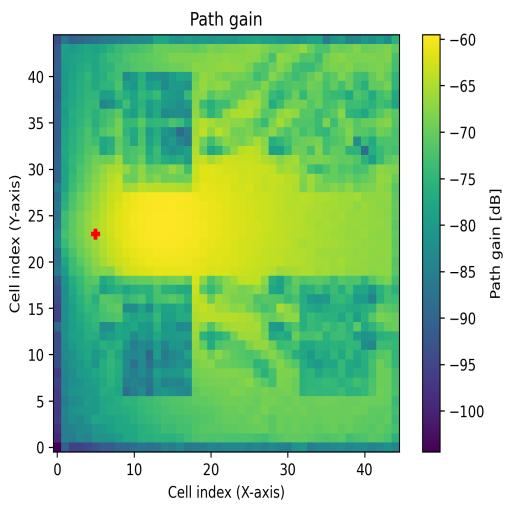Concrete: (300, 70, 377, 190)
Glass: (123, 72, 192, 184)
Metal: (301, 276, 377, 396)
Wood: (122, 275, 192, 397)
